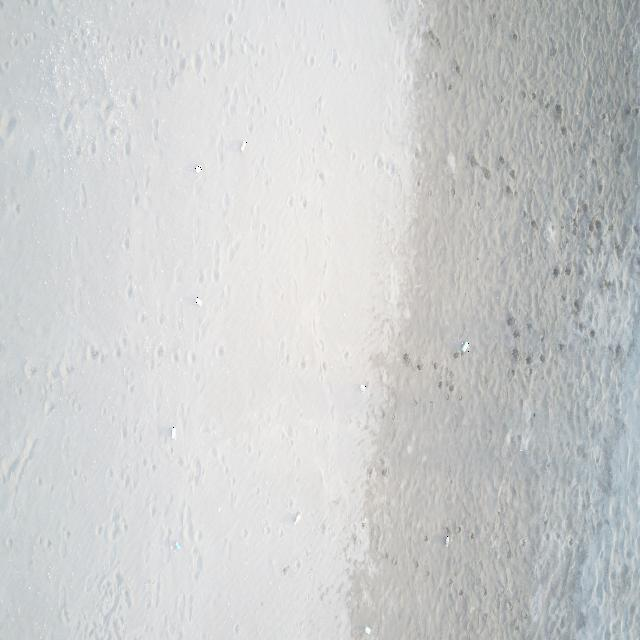tin-and-aluminum-cans: (293, 512, 301, 528), (461, 341, 469, 354), (171, 425, 177, 441), (195, 297, 203, 308), (195, 164, 203, 175), (240, 140, 247, 152), (365, 624, 371, 636), (175, 540, 181, 552), (360, 383, 366, 394), (445, 535, 450, 548)
